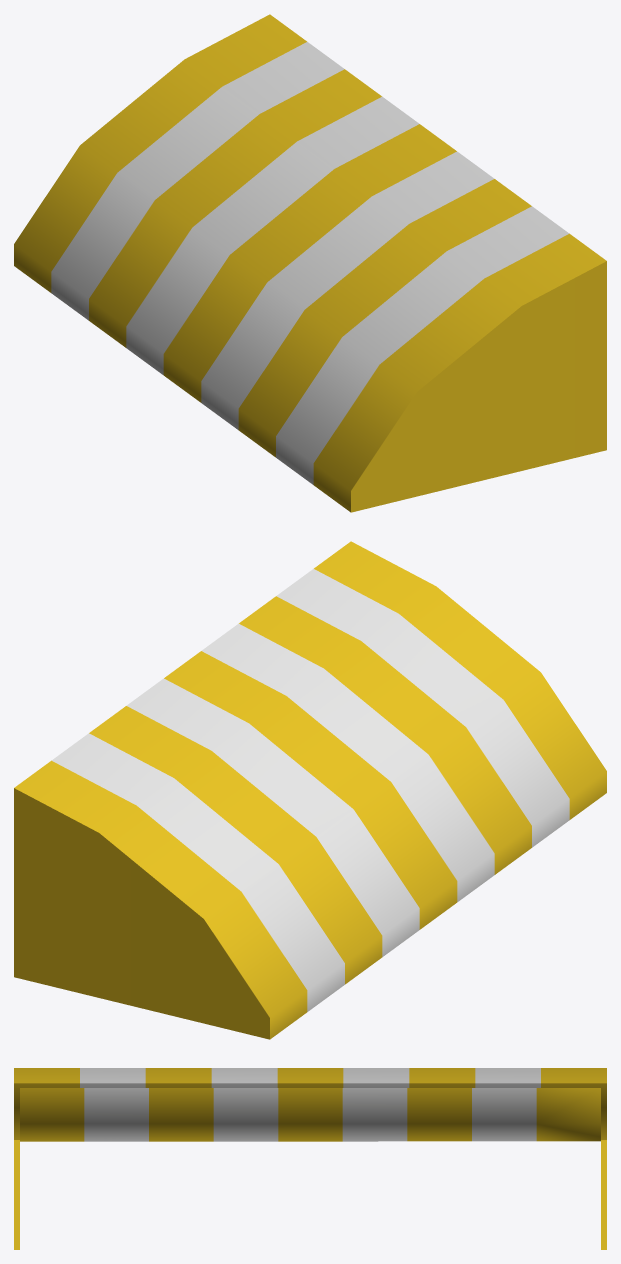
Rendered from Awning_1_M.fbx.
The picture shows the model from 3 angles, top to bottom: view 1: azimuth 30°, elevation 25°; view 2: azimuth 150°, elevation 25°; view 3: azimuth 270°, elevation 25°; orthographic projection. The views are drawn at different scales.
Visible parts, largest first — view 1: Awning_1_M; view 2: Awning_1_M; view 3: Awning_1_M.
Part boxes in pixels (x1=…): Awning_1_M: x1=14, y1=14, x2=606, y2=512; Awning_1_M: x1=14, y1=541, x2=606, y2=1039; Awning_1_M: x1=14, y1=1068, x2=606, y2=1249.
Size of the model in its own units: 123 by 86.57 by 280.
